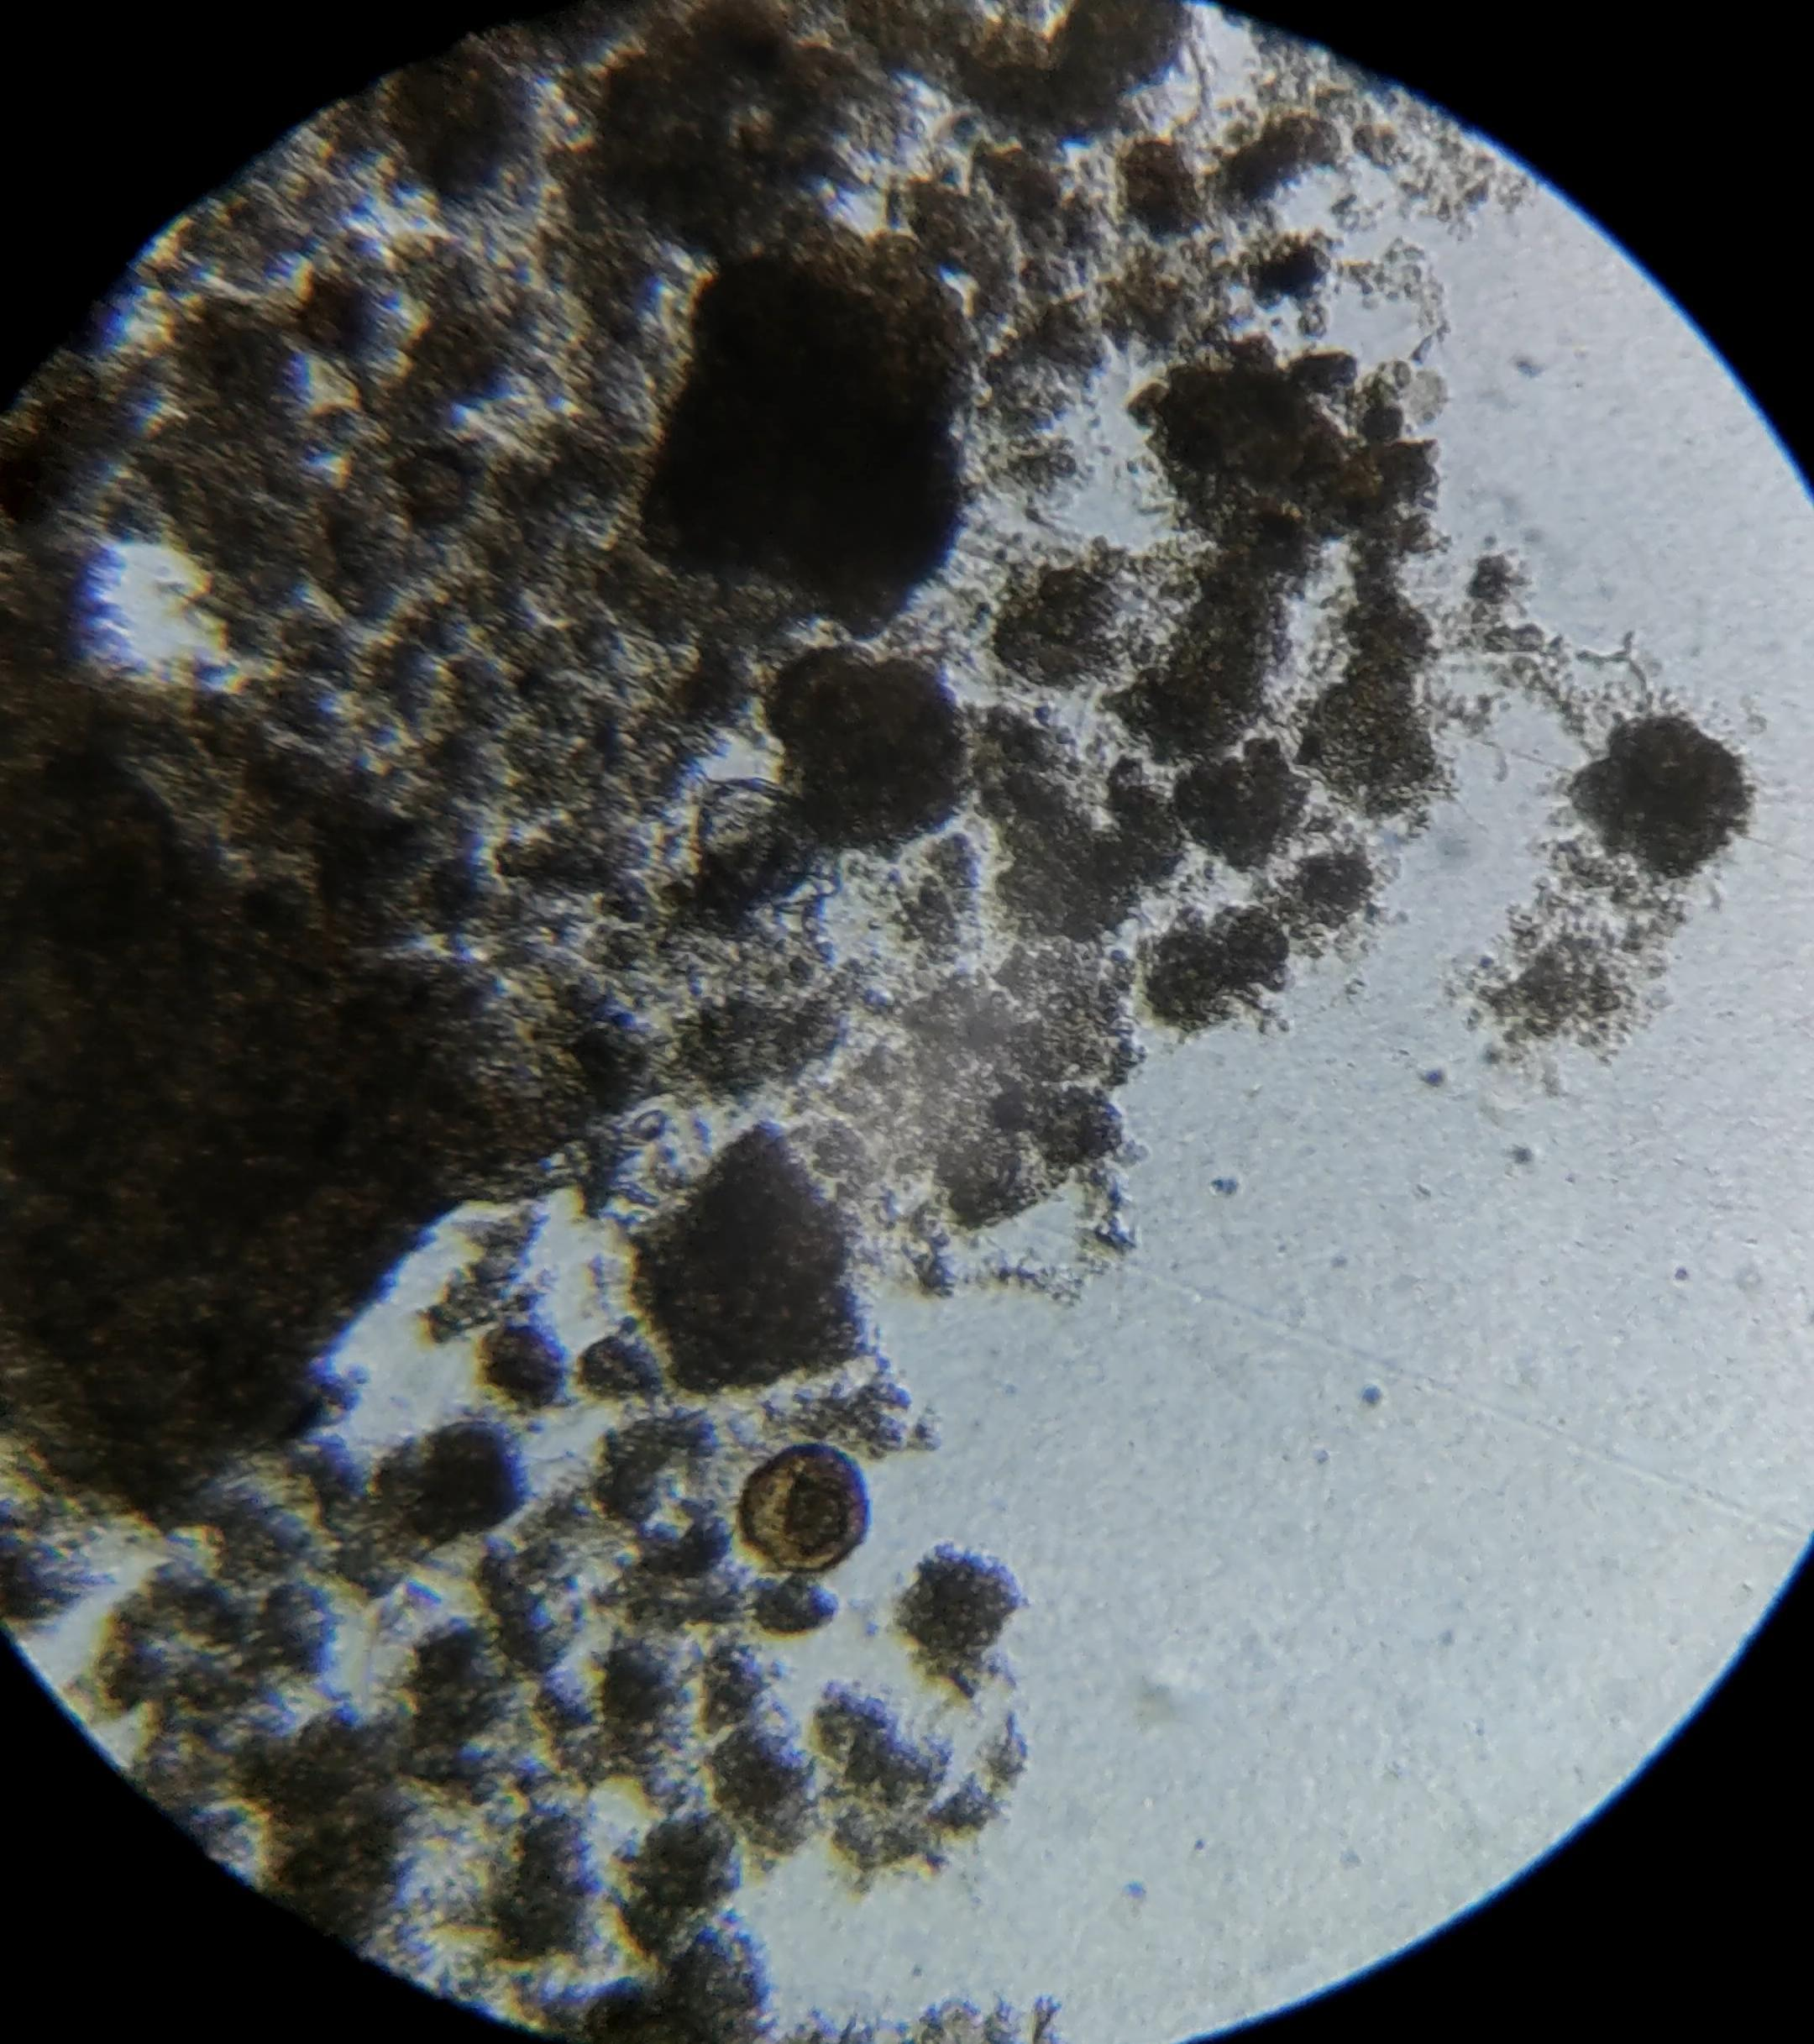Arcella: (742, 1445, 867, 1575)
Mo: (657, 725, 840, 914)
